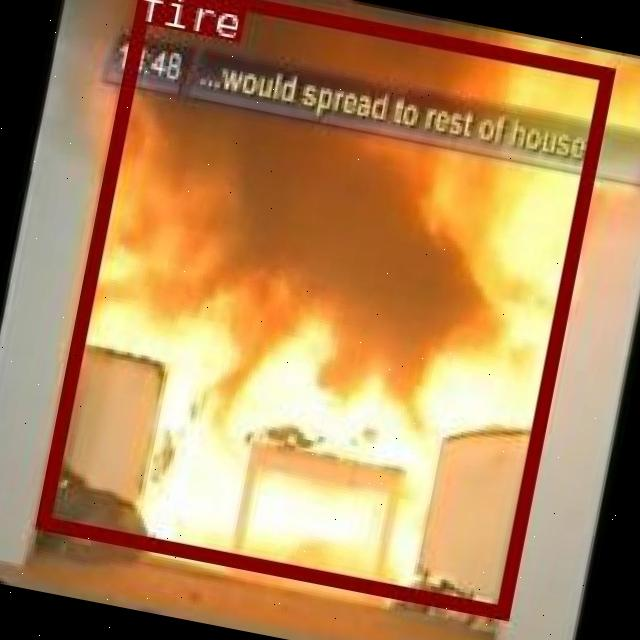fire: (34, 0, 611, 616)
